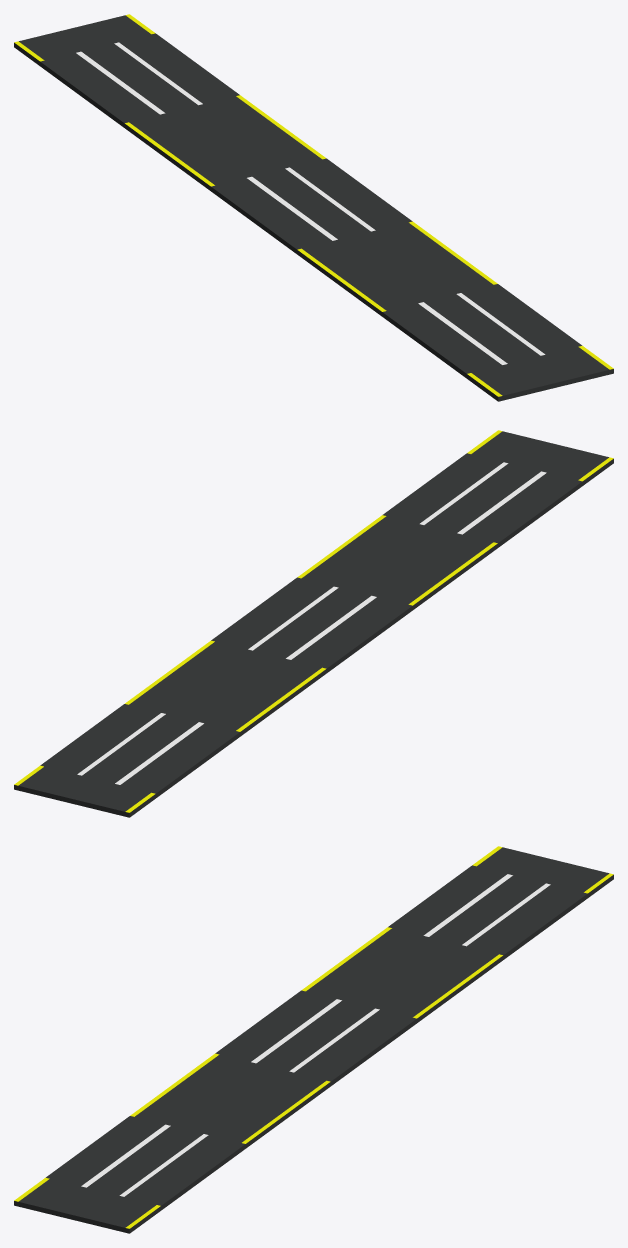
The model's file is Place.fbx.
3 views of the same model, one above another, from view 1: azimuth 30°, elevation 25°; view 2: azimuth 150°, elevation 25°; view 3: azimuth 330°, elevation 25° (orthographic).
Visible parts, largest first — view 1: Cube; view 2: Cube; view 3: Cube.
Part boxes in pixels (x1,y1,x2,y2): Cube: [14, 14, 613, 401]; Cube: [14, 430, 613, 817]; Cube: [14, 846, 613, 1233].
Bounding box in the file's own units: 551 × 22.1 × 4000.
